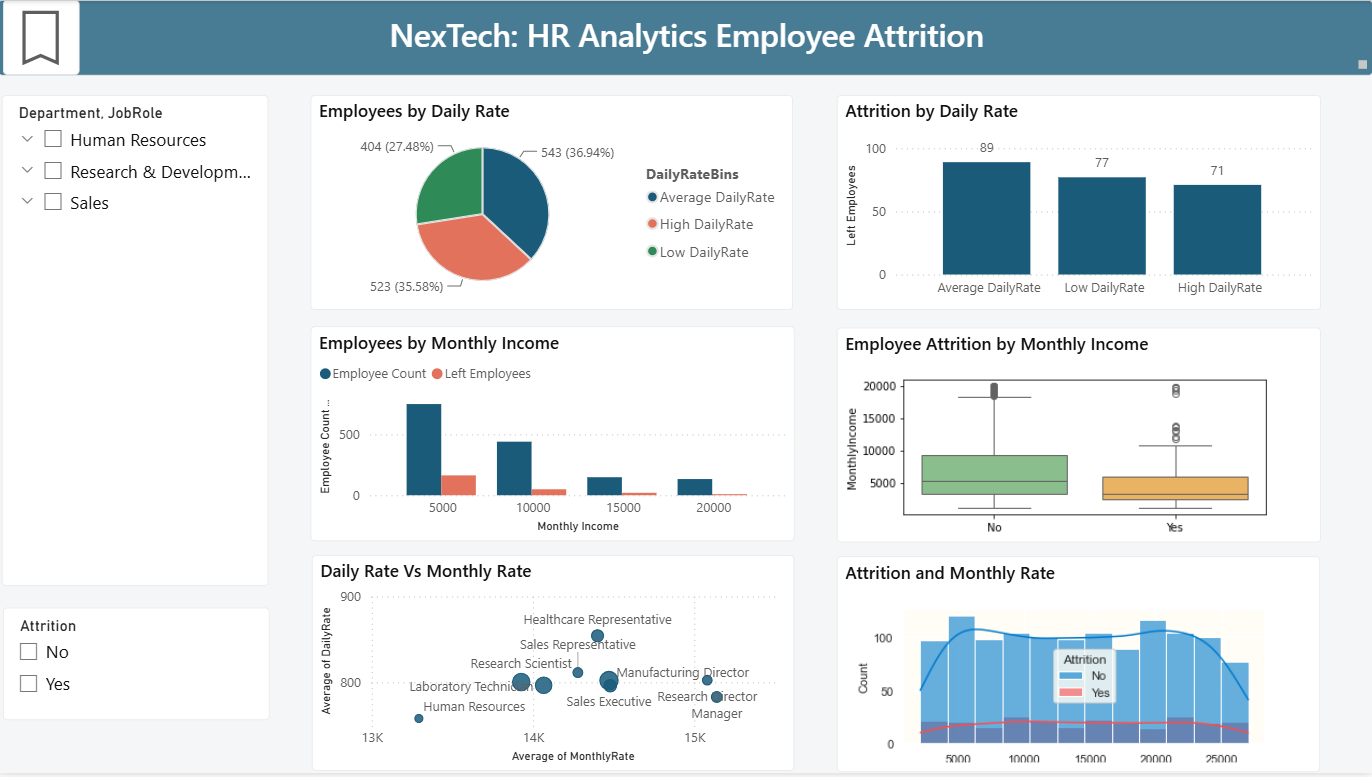

Layout of this report page (visuals, bound fields, positions):
{"tool":"powerbi","page":{"name":"Compensation","canvas":[1280,720],"ordinal":3},"visuals":[{"type":"clusteredColumnChart","title":"Employees by Monthly Income","fields":{"Y":["Sum(Survey Input.EmployeeCount)","All_Measures.Left Employees"],"Category":["Survey Input.MonthlyIncomeBins"]},"box":[290.6,303.1,450.3,200],"z":0},{"type":"pythonVisual","title":"Employee Attrition by Monthly Income","fields":{"Values":["Survey Input.Attrition","Survey Input.MonthlyIncome"]},"box":[780.2,304.3,450,200],"z":1000},{"type":"pythonVisual","fields":{"Values":["Survey Input.Attrition","Survey Input.MonthlyRate"]},"box":[780.3,517.1,449.4,200.6],"z":2000},{"type":"textbox","title":"NexTech: Compensation Analysis","box":[0,0,1279.8,70],"z":4000},{"type":"slicer","fields":{"Values":["Survey Input.Department","Survey Input.JobRole"]},"box":[3.5,88.4,247.7,457],"z":5000},{"type":"pieChart","title":"Employees by Daily Rate","fields":{"Category":["Survey Input.DailyRateBins"],"Y":["Sum(Survey Input.EmployeeCount)"]},"box":[290.6,88.3,449.1,200],"z":6000},{"type":"clusteredColumnChart","title":"Attrition by Daily Rate","fields":{"Category":["Survey Input.DailyRateBins"],"Y":["All_Measures.Left Employees"]},"box":[780.1,88.3,450.3,200],"z":7000},{"type":"actionButton","box":[4.9,0,71.2,69.9],"z":8000},{"type":"scatterChart","title":"Daily Rate Vs Monthly Rate","fields":{"X":["Avg(Survey Input.MonthlyRate)"],"Y":["Avg(Survey Input.DailyRate)"],"Category":["Survey Input.JobRole"]},"box":[291.9,516.3,448.8,201.2],"z":9000}]}

Visuals, with their boxes on the page's 1280x720 design canvas (x1, y1, x2, y2). These are canvas units, not pixel positions in the 1372x777 screenshot, which may show the page scaled, cropped or inside an application window:
"Employees by Monthly Income" clusteredColumnChart: l=291, t=303, r=741, b=503
"Employee Attrition by Monthly Income" pythonVisual: l=780, t=304, r=1230, b=504
pythonVisual - Survey Input.Attrition x Survey Input.MonthlyRate: l=780, t=517, r=1230, b=718
"NexTech: Compensation Analysis" textbox: l=0, t=0, r=1280, b=70
slicer - Survey Input.Department x Survey Input.JobRole: l=4, t=88, r=251, b=545
"Employees by Daily Rate" pieChart: l=291, t=88, r=740, b=288
"Attrition by Daily Rate" clusteredColumnChart: l=780, t=88, r=1230, b=288
actionButton: l=5, t=0, r=76, b=70
"Daily Rate Vs Monthly Rate" scatterChart: l=292, t=516, r=741, b=718
